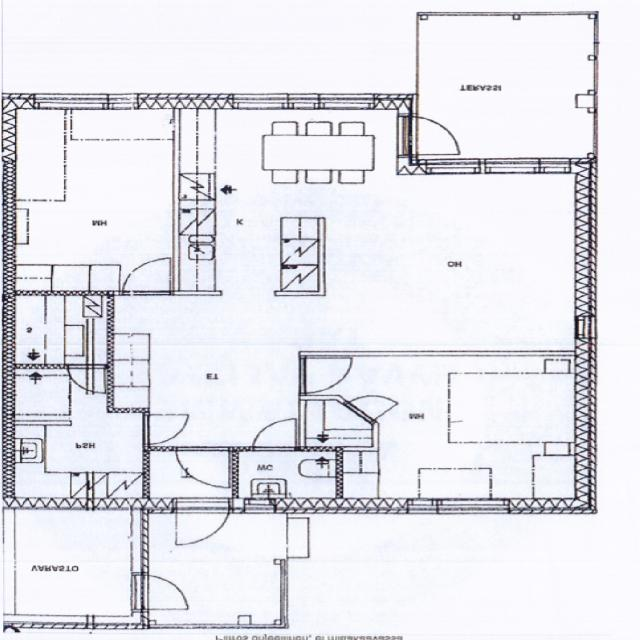door: (176, 498, 230, 554), (399, 116, 472, 156), (341, 379, 401, 424), (133, 574, 197, 612), (174, 444, 226, 490), (122, 253, 170, 296), (297, 359, 350, 393), (253, 414, 294, 451), (142, 414, 188, 443), (69, 364, 105, 397)
